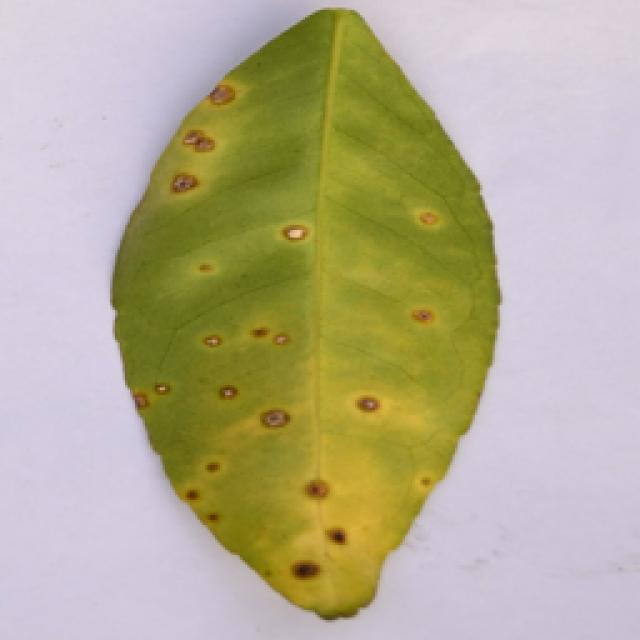canker: (124, 9, 507, 604)
